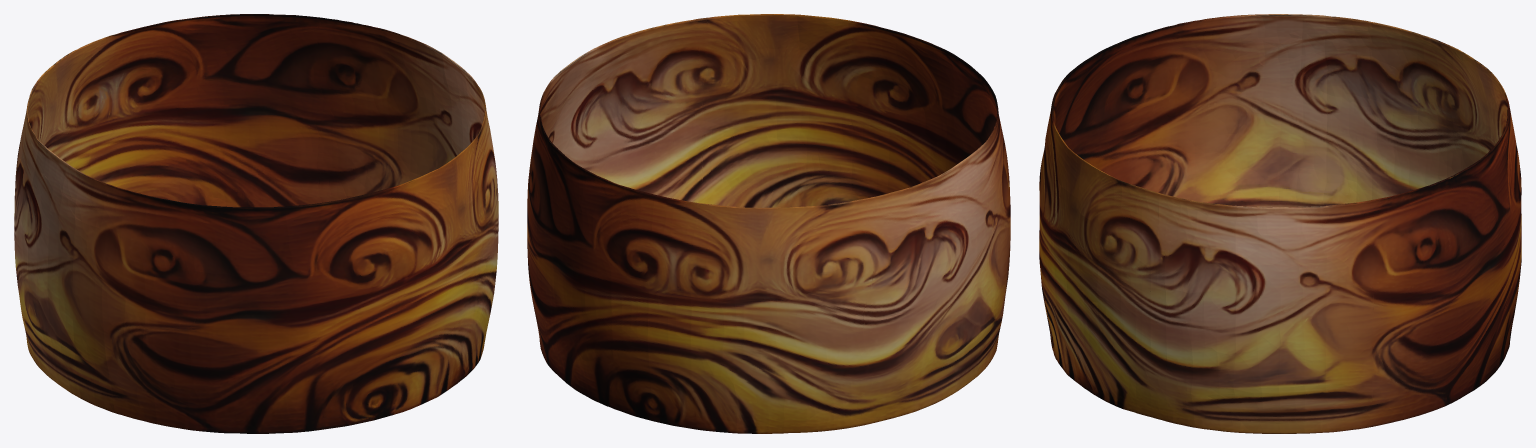
The model's file is wooden-belt-buckle-dune.jpeg.glb.
3 renders of one model, left to right at view 1: azimuth 30°, elevation 25°; view 2: azimuth 150°, elevation 25°; view 3: azimuth 270°, elevation 25°, orthographic.
Visible parts, largest first — view 1: world; view 2: world; view 3: world.
Boxes of the visible parts, x1,y1,x2,y2 form: world: (14, 14, 498, 433); world: (527, 14, 1010, 433); world: (1039, 14, 1521, 433).
Bounding box in the file's own units: 0.9982 × 0.5209 × 0.9983.
Materials: 1 (1 with a texture image).
